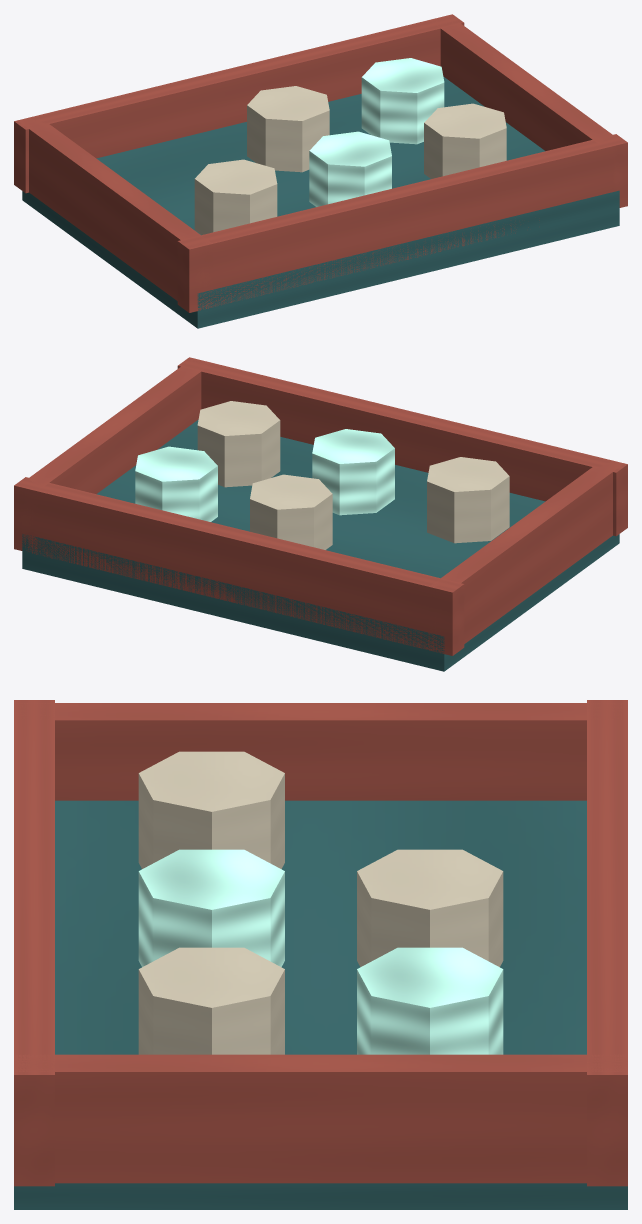
File: atlas100-s038-a04.lod1.glb
3 views of the same model, one above another, from view 1: azimuth 30°, elevation 25°; view 2: azimuth 150°, elevation 25°; view 3: azimuth 270°, elevation 25° (orthographic). The views are drawn at different scales.
Parts seen in each view (by area): view 1: atlas100-s038-a04:part-000, atlas100-s038-a04:part-002, atlas100-s038-a04:part-001, atlas100-s038-a04:part-003, atlas100-s038-a04:part-004, atlas100-s038-a04:part-007, atlas100-s038-a04:part-006, atlas100-s038-a04:part-008, atlas100-s038-a04:part-009, atlas100-s038-a04:part-010; view 2: atlas100-s038-a04:part-001, atlas100-s038-a04:part-000, atlas100-s038-a04:part-002, atlas100-s038-a04:part-003, atlas100-s038-a04:part-004, atlas100-s038-a04:part-008, atlas100-s038-a04:part-009, atlas100-s038-a04:part-010, atlas100-s038-a04:part-006, atlas100-s038-a04:part-007; view 3: atlas100-s038-a04:part-000, atlas100-s038-a04:part-004, atlas100-s038-a04:part-003, atlas100-s038-a04:part-001, atlas100-s038-a04:part-002, atlas100-s038-a04:part-007, atlas100-s038-a04:part-010, atlas100-s038-a04:part-008, atlas100-s038-a04:part-006, atlas100-s038-a04:part-009.
Boxes of the visible parts, bbox=[...] form: atlas100-s038-a04:part-000: bbox=[22, 76, 619, 328]; atlas100-s038-a04:part-002: bbox=[177, 134, 627, 312]; atlas100-s038-a04:part-001: bbox=[14, 14, 464, 193]; atlas100-s038-a04:part-003: bbox=[17, 118, 212, 311]; atlas100-s038-a04:part-004: bbox=[430, 15, 624, 207]; atlas100-s038-a04:part-007: bbox=[361, 58, 444, 144]; atlas100-s038-a04:part-006: bbox=[247, 86, 329, 172]; atlas100-s038-a04:part-008: bbox=[194, 159, 277, 234]; atlas100-s038-a04:part-009: bbox=[309, 131, 391, 206]; atlas100-s038-a04:part-010: bbox=[424, 103, 506, 178]; atlas100-s038-a04:part-001: bbox=[14, 477, 464, 655]; atlas100-s038-a04:part-000: bbox=[22, 419, 619, 671]; atlas100-s038-a04:part-002: bbox=[177, 357, 627, 536]; atlas100-s038-a04:part-003: bbox=[429, 461, 624, 652]; atlas100-s038-a04:part-004: bbox=[17, 358, 211, 554]; atlas100-s038-a04:part-008: bbox=[427, 457, 509, 543]; atlas100-s038-a04:part-009: bbox=[312, 429, 394, 515]; atlas100-s038-a04:part-010: bbox=[197, 401, 280, 487]; atlas100-s038-a04:part-006: bbox=[250, 474, 332, 549]; atlas100-s038-a04:part-007: bbox=[135, 446, 217, 521]; atlas100-s038-a04:part-000: bbox=[14, 800, 627, 1209]; atlas100-s038-a04:part-004: bbox=[14, 1054, 627, 1183]; atlas100-s038-a04:part-003: bbox=[14, 703, 627, 800]; atlas100-s038-a04:part-001: bbox=[587, 700, 627, 1186]; atlas100-s038-a04:part-002: bbox=[14, 700, 54, 1186]; atlas100-s038-a04:part-007: bbox=[357, 947, 503, 1054]; atlas100-s038-a04:part-010: bbox=[138, 947, 284, 1054]; atlas100-s038-a04:part-008: bbox=[138, 751, 284, 868]; atlas100-s038-a04:part-006: bbox=[357, 849, 503, 967]; atlas100-s038-a04:part-009: bbox=[138, 849, 284, 967].
Bounding box in the file's own units: 1.39 × 0.2619 × 0.9621.
4 materials, 4 textured.
